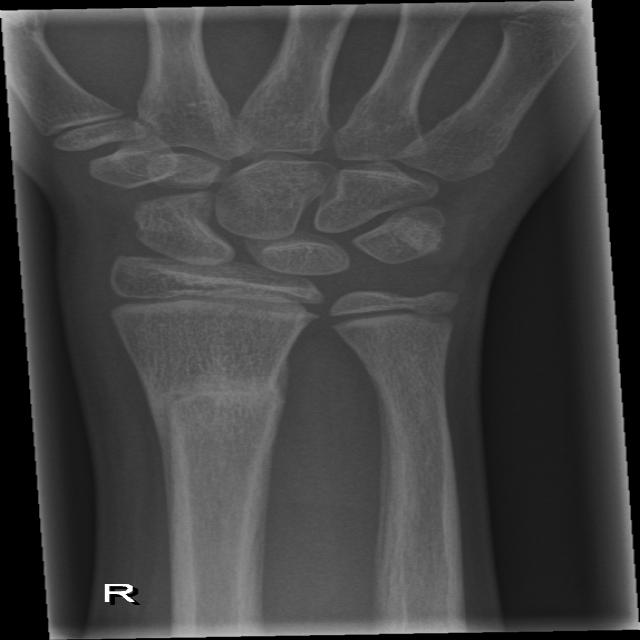radius fracture: (132, 353, 316, 482)
